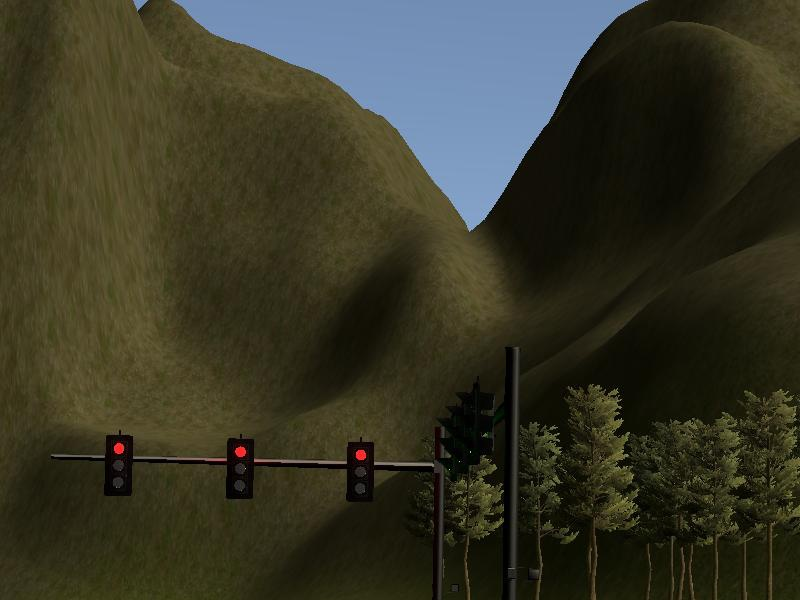Red: (102, 434, 135, 498), (346, 443, 374, 502), (226, 438, 254, 497)
